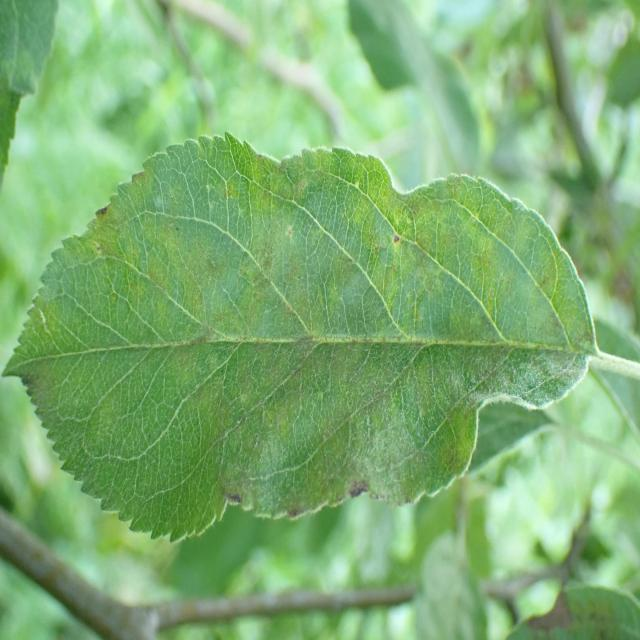scab: (32, 146, 594, 548)
